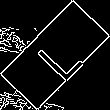L_NW: (26, 27, 84, 83)
